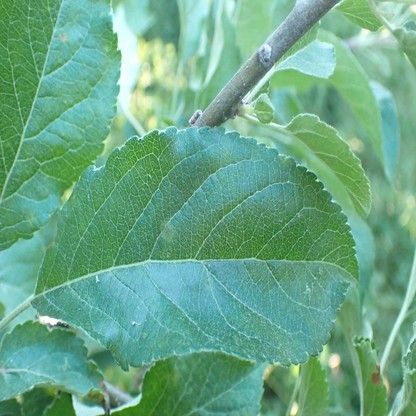frogeye_leaf_spot: (371, 366, 381, 385), (60, 33, 66, 41), (100, 380, 105, 387)
scab: (160, 220, 174, 241), (26, 207, 35, 223), (234, 333, 242, 346), (205, 278, 210, 286)
